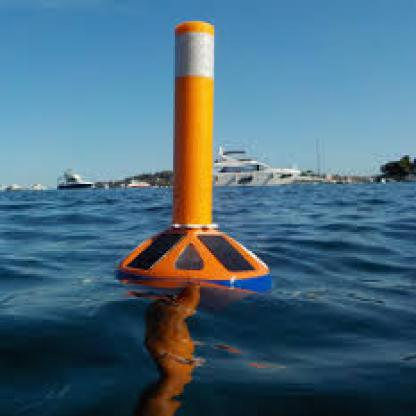buoy: (111, 17, 282, 305)
